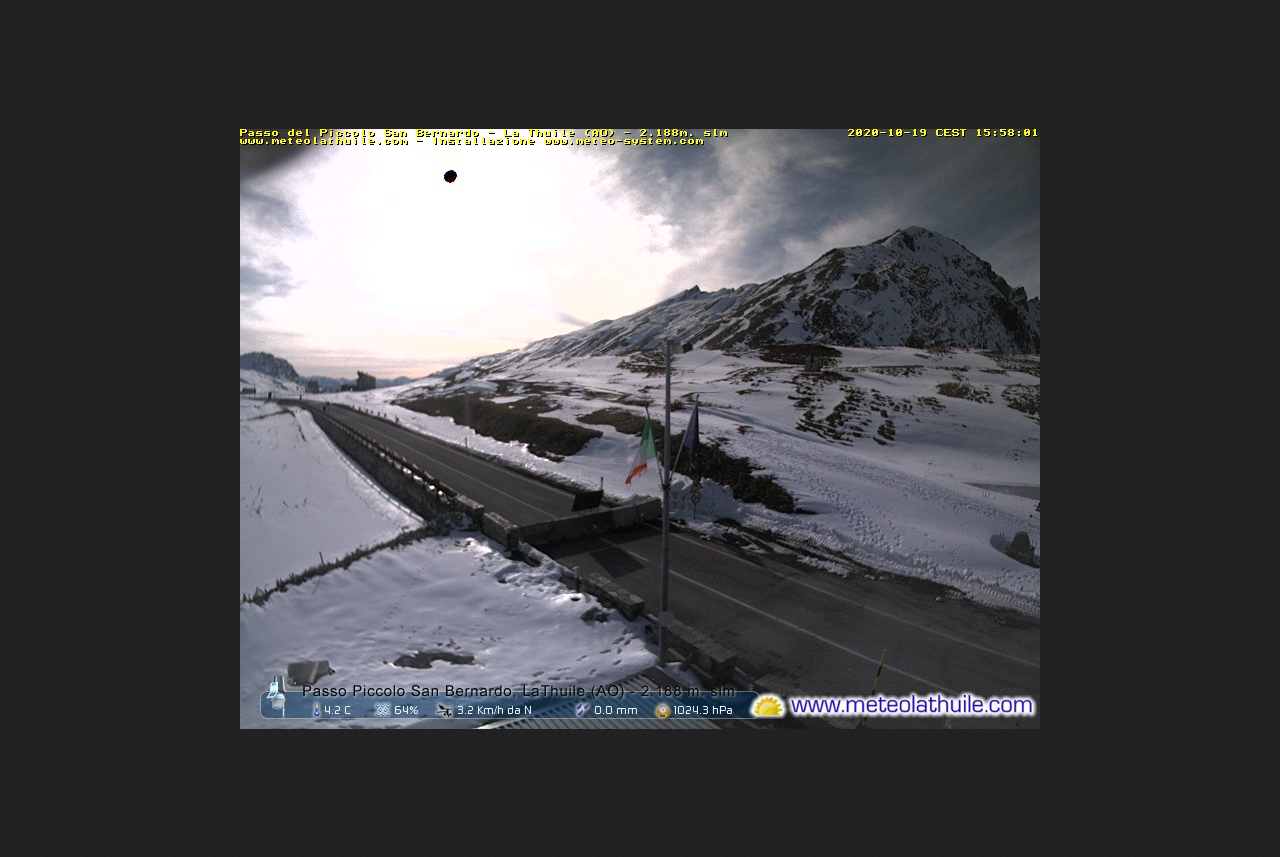no: (630, 422, 658, 484), (680, 401, 703, 474)
